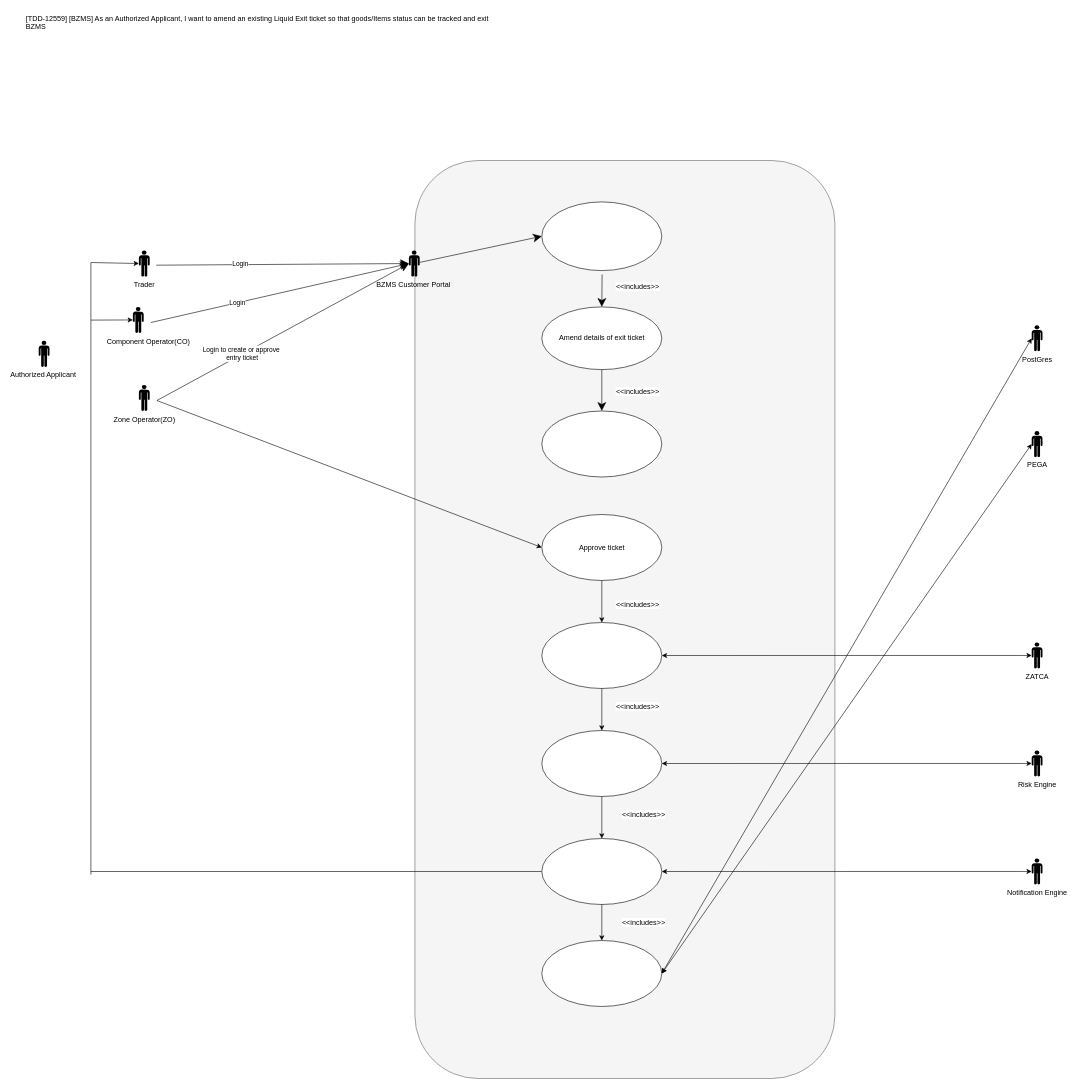
Some shapes in this 1078 by 1089 pixel diagram are drawn without their labels. Here are the shapes that lost their labels. From the top down, the centre of each, then its label:
[601,236]: View exit tickets and select amend
[601,443]: Submit the ticket
[601,655]: ZATCA approval
[601,763]: Risk mitigation
[601,871]: "Approved" and notify all parties
[601,973]: Items update and system updates stock
